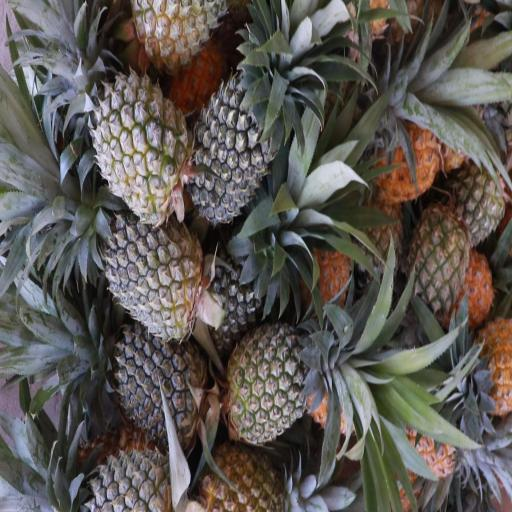------------------------------: (98, 74, 187, 226), (228, 321, 326, 441), (138, 0, 240, 77), (406, 212, 470, 316), (204, 436, 288, 512)
Pineapple - v8 v1: (379, 112, 444, 196), (466, 310, 512, 408)
